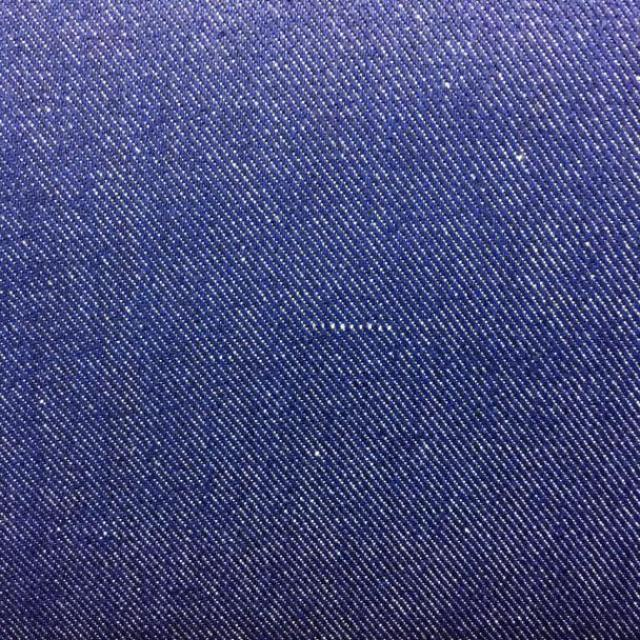Knot: (309, 321, 395, 333)
